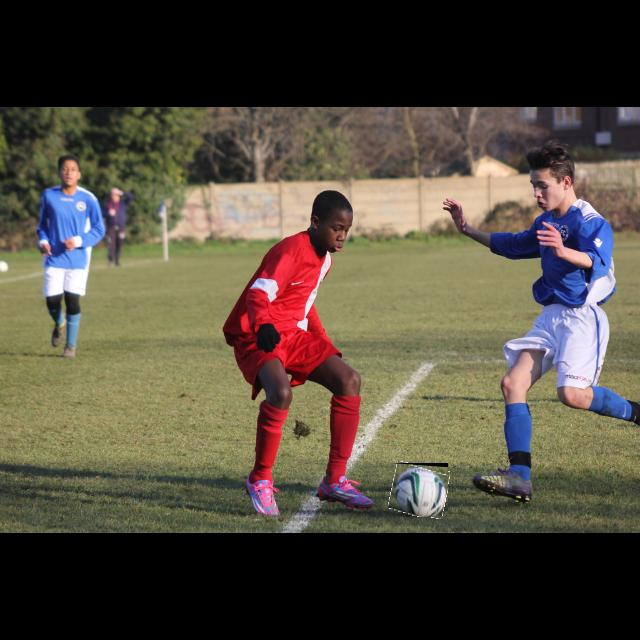Football: (390, 463, 448, 517)
